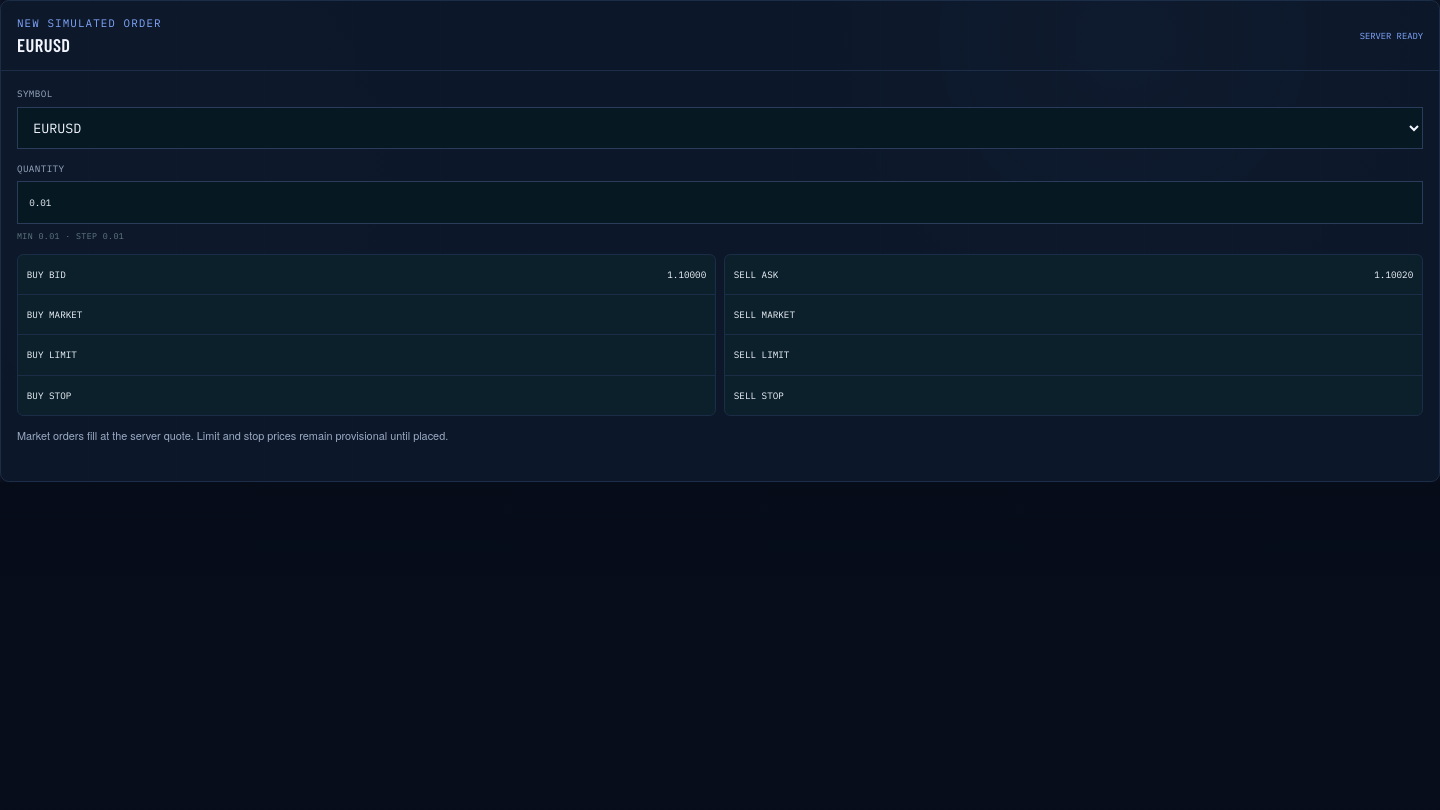
Test: terminal order ticket browser state › arms a provisional chart-priced order instead of submitting when limit is selected
Click the button "Buy limit": (52, 355) top-left (18, 335), bottom-right (715, 374)
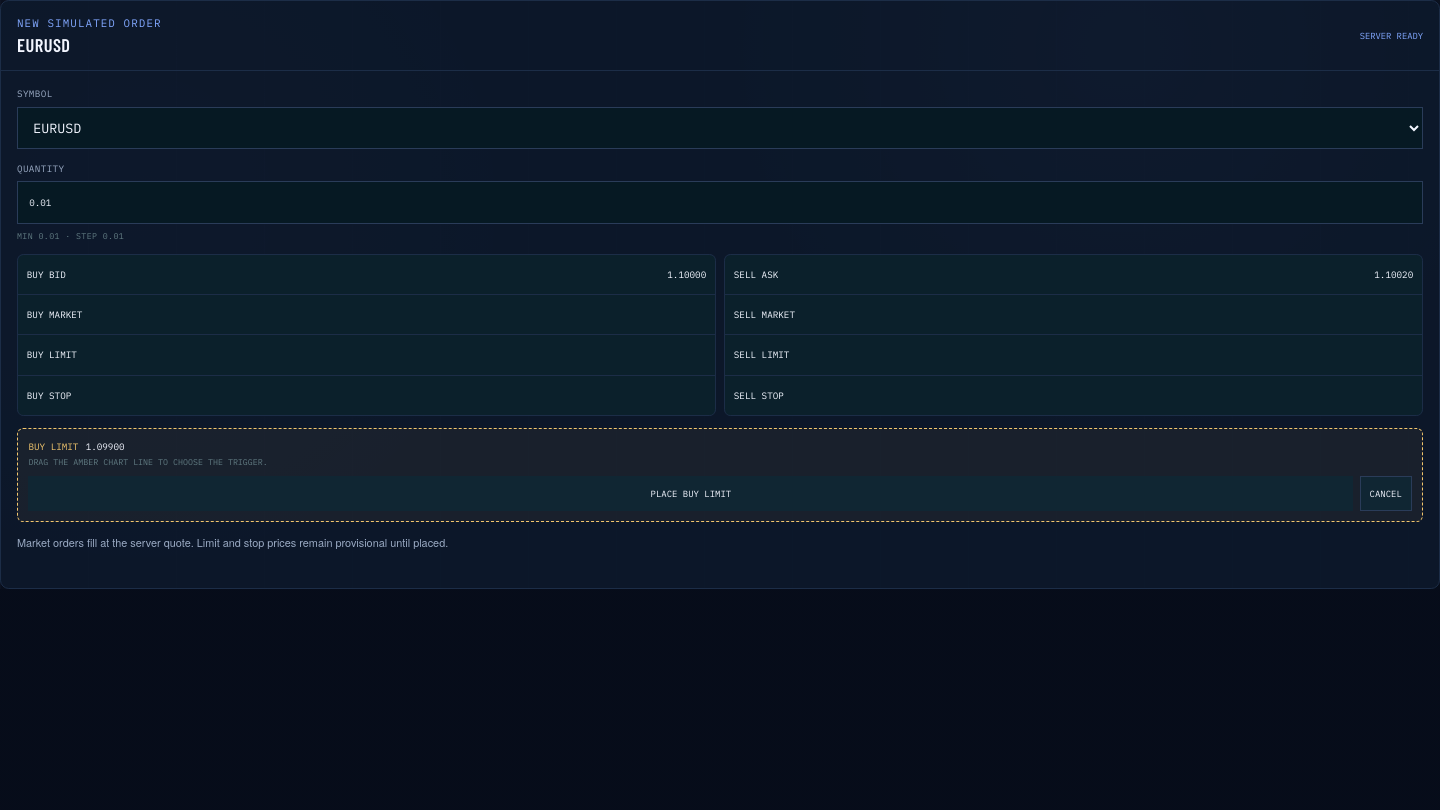
Result: the number of buttons "Buy limit" is 2 at top-left (18, 335), bottom-right (715, 374); top-left (28, 440), bottom-right (78, 453)
Result: the text "1.09900" is shown at top-left (86, 440), bottom-right (124, 453)
Result: the button "Place Buy limit" is shown at top-left (28, 476), bottom-right (1353, 511)
